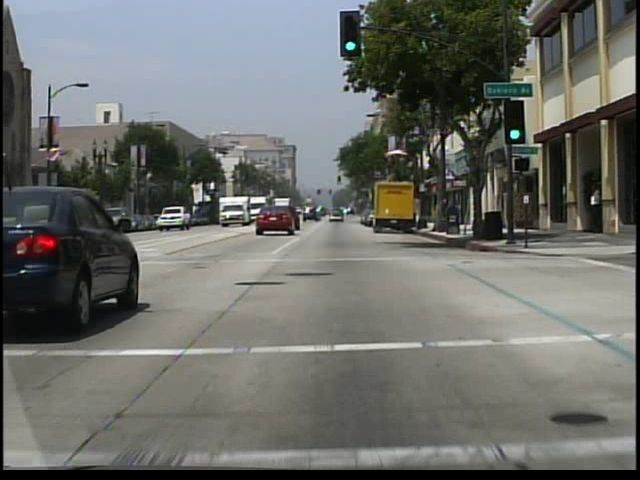person: (588, 189, 601, 233)
